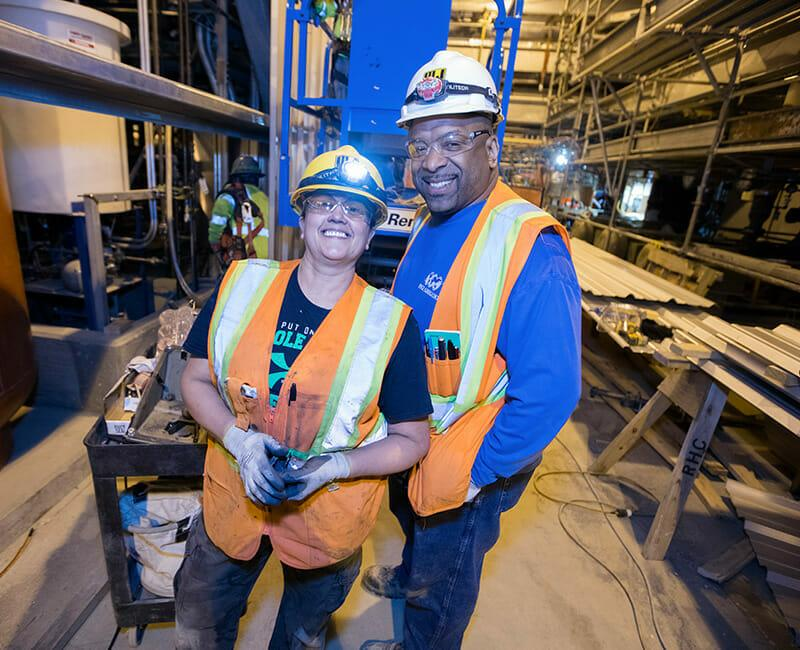helmet: (393, 50, 504, 128), (290, 143, 391, 226), (230, 153, 267, 179)
